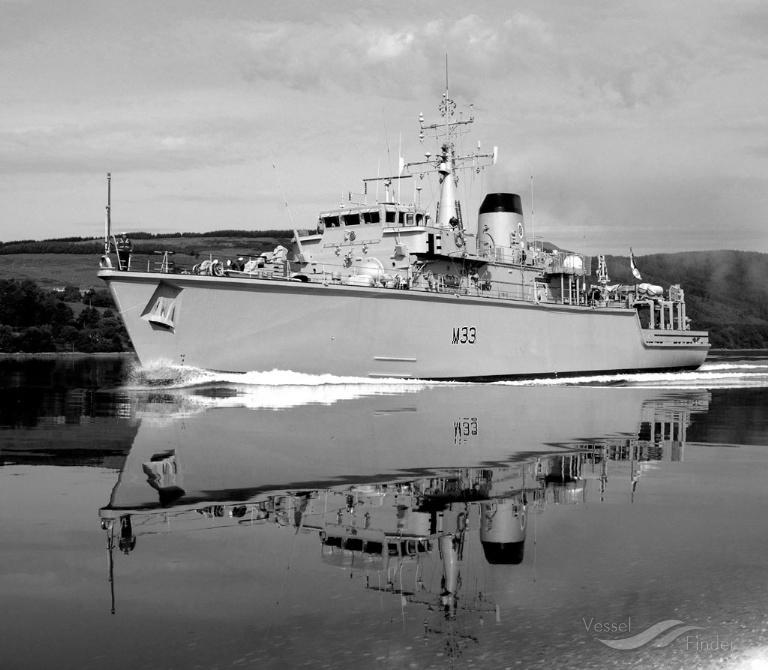OCR: (449, 322, 480, 352)
